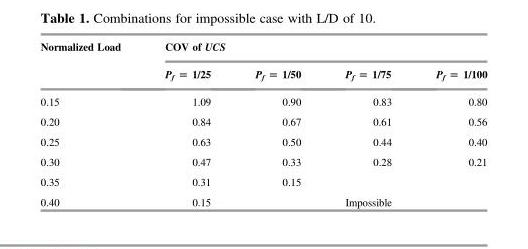table: (39, 39, 486, 207)
table column: (39, 39, 142, 207), (322, 39, 413, 207), (142, 39, 232, 207), (232, 39, 322, 207), (413, 39, 486, 207)
table column header: (39, 39, 486, 87)
table row: (39, 59, 486, 87), (39, 87, 486, 110), (39, 150, 486, 171), (39, 39, 486, 59), (39, 110, 486, 130), (39, 130, 486, 150), (39, 171, 486, 191), (39, 191, 486, 207)
table spanning cell: (142, 39, 486, 59), (39, 39, 142, 87)
